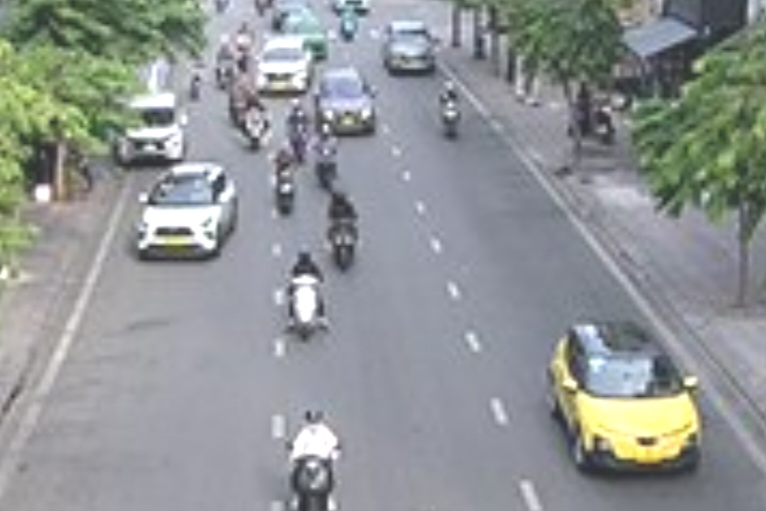car: (546, 319, 703, 474), (135, 165, 240, 260), (113, 85, 184, 165), (314, 69, 376, 136), (247, 36, 313, 97), (380, 17, 442, 76)
